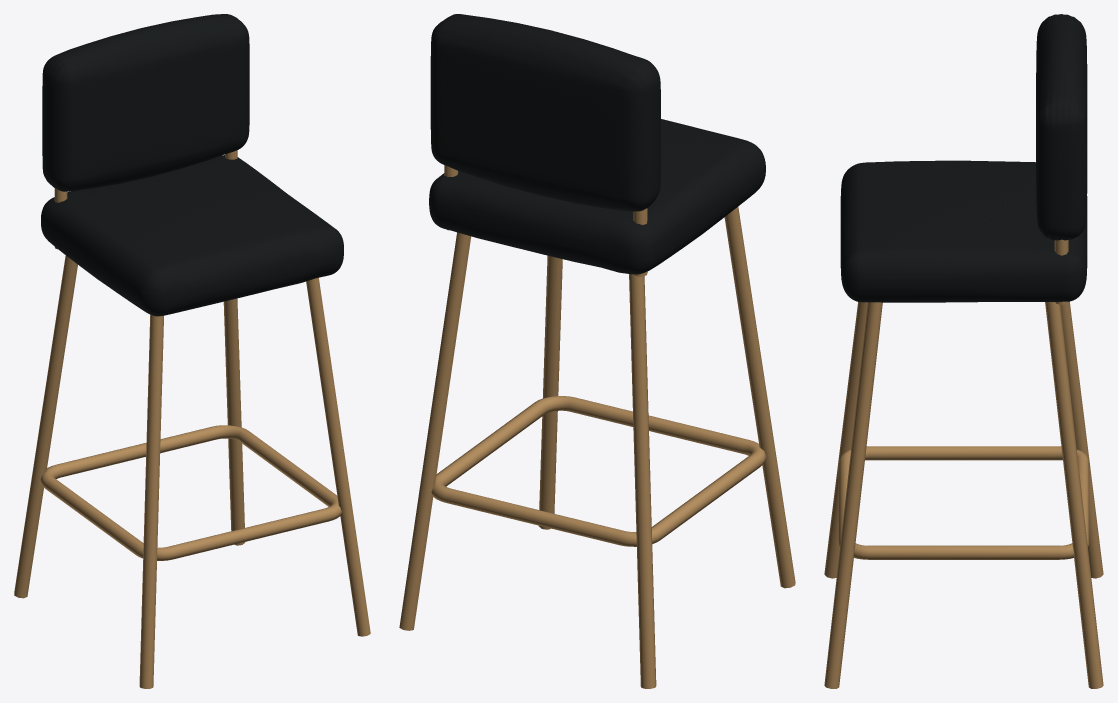
The model's file is leather-bar-stool.glb.
3 views of the same model, side by side, from view 1: azimuth 30°, elevation 25°; view 2: azimuth 150°, elevation 25°; view 3: azimuth 270°, elevation 25° (orthographic). The views are drawn at different scales.
Visible parts, largest first — view 1: Contoured leather bar seat, Curved low back cushion, Footrest continuous hoop, Tapered bar stool frame.001, Tapered bar stool frame.003, Tapered bar stool frame, Tapered bar stool frame.002; view 2: Curved low back cushion, Contoured leather bar seat, Footrest continuous hoop, Tapered bar stool frame, Tapered bar stool frame.002, Tapered bar stool frame.001, Tapered bar stool frame.003; view 3: Contoured leather bar seat, Curved low back cushion, Footrest continuous hoop, Tapered bar stool frame.003, Tapered bar stool frame.002, Tapered bar stool frame.001, Tapered bar stool frame.
Boxes of the visible parts, x1,y1,x2,y2 form: Contoured leather bar seat: (41, 155, 343, 316); Curved low back cushion: (42, 14, 249, 191); Footrest continuous hoop: (40, 425, 341, 560); Tapered bar stool frame.001: (139, 314, 163, 688); Tapered bar stool frame.003: (306, 277, 370, 636); Tapered bar stool frame: (14, 255, 77, 598); Tapered bar stool frame.002: (223, 298, 245, 545); Curved low back cushion: (430, 14, 660, 211); Contoured leather bar seat: (429, 119, 765, 274); Footrest continuous hoop: (431, 396, 766, 546); Tapered bar stool frame: (629, 274, 656, 688); Tapered bar stool frame.002: (399, 232, 471, 630); Tapered bar stool frame.001: (724, 207, 795, 588); Tapered bar stool frame.003: (539, 255, 562, 529); Contoured leather bar seat: (840, 160, 1087, 302); Curved low back cushion: (1036, 14, 1087, 240); Footrest continuous hoop: (838, 446, 1089, 559); Tapered bar stool frame.003: (824, 302, 882, 688); Tapered bar stool frame.002: (1045, 302, 1103, 688); Tapered bar stool frame.001: (824, 302, 867, 578); Tapered bar stool frame: (1060, 301, 1103, 578).
Bounding box in the file's own units: 0.4858 × 1.11 × 0.4858.
2 materials, 1 textured.
